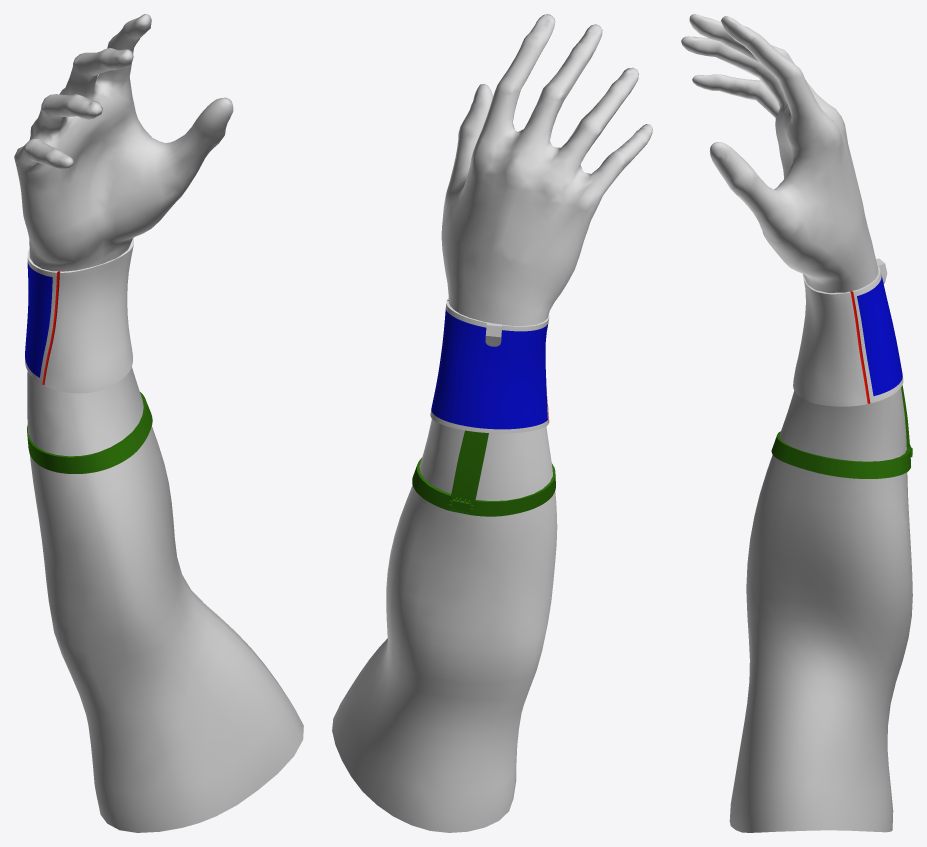
File: S_BRACELET_MULTI_TOOL_2.fbx
3 renders of one model, left to right at view 1: azimuth 30°, elevation 25°; view 2: azimuth 150°, elevation 25°; view 3: azimuth 270°, elevation 25°, orthographic. The views are drawn at different scales.
Parts seen in each view (by area): view 1: CHARA_Hand_Rigged; view 2: CHARA_Hand_Rigged; view 3: CHARA_Hand_Rigged.
Part boxes in pixels (x1,y1,x2,y2): CHARA_Hand_Rigged: (14, 14, 303, 832); CHARA_Hand_Rigged: (332, 14, 652, 832); CHARA_Hand_Rigged: (681, 14, 912, 832).
Size of the model in its own units: 32.83 by 90.87 by 24.02.
